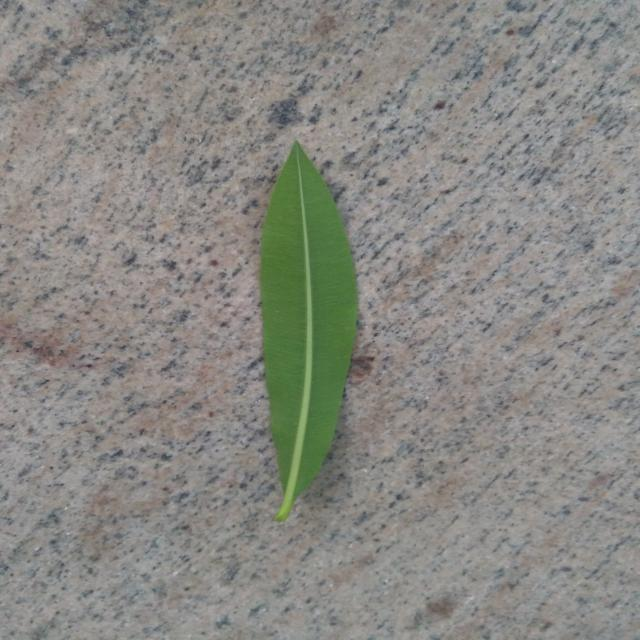ganigale: (260, 142, 358, 521)
